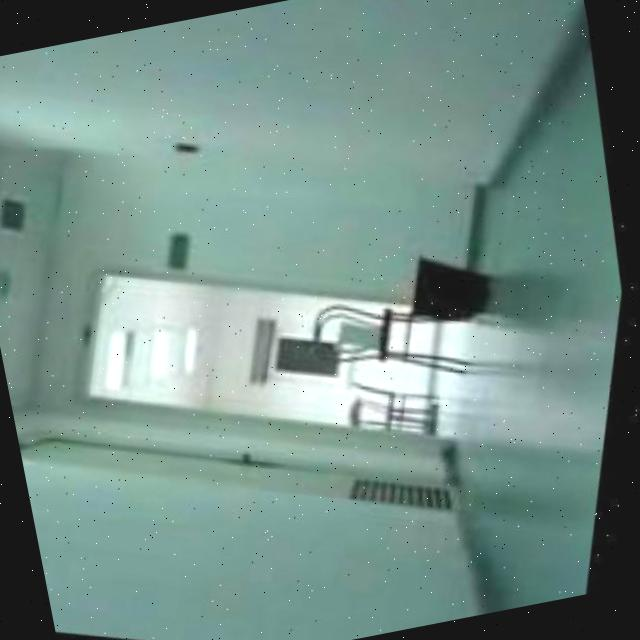fire: (387, 296, 421, 324)
